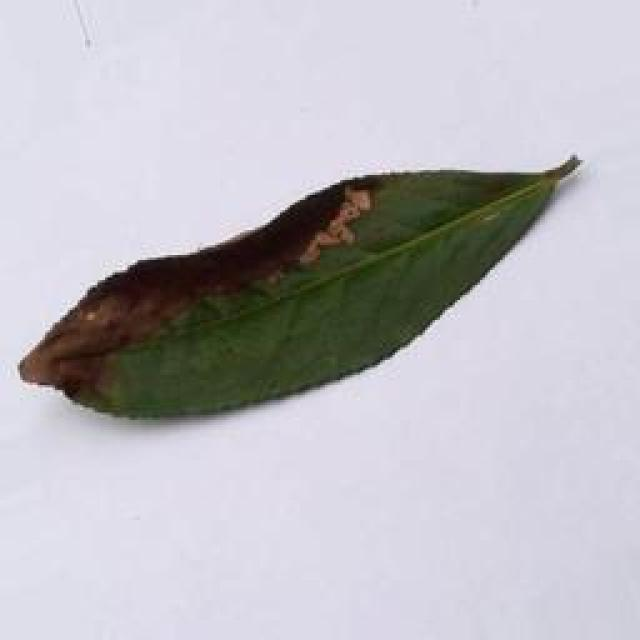Brown Blight: (14, 143, 589, 446)
